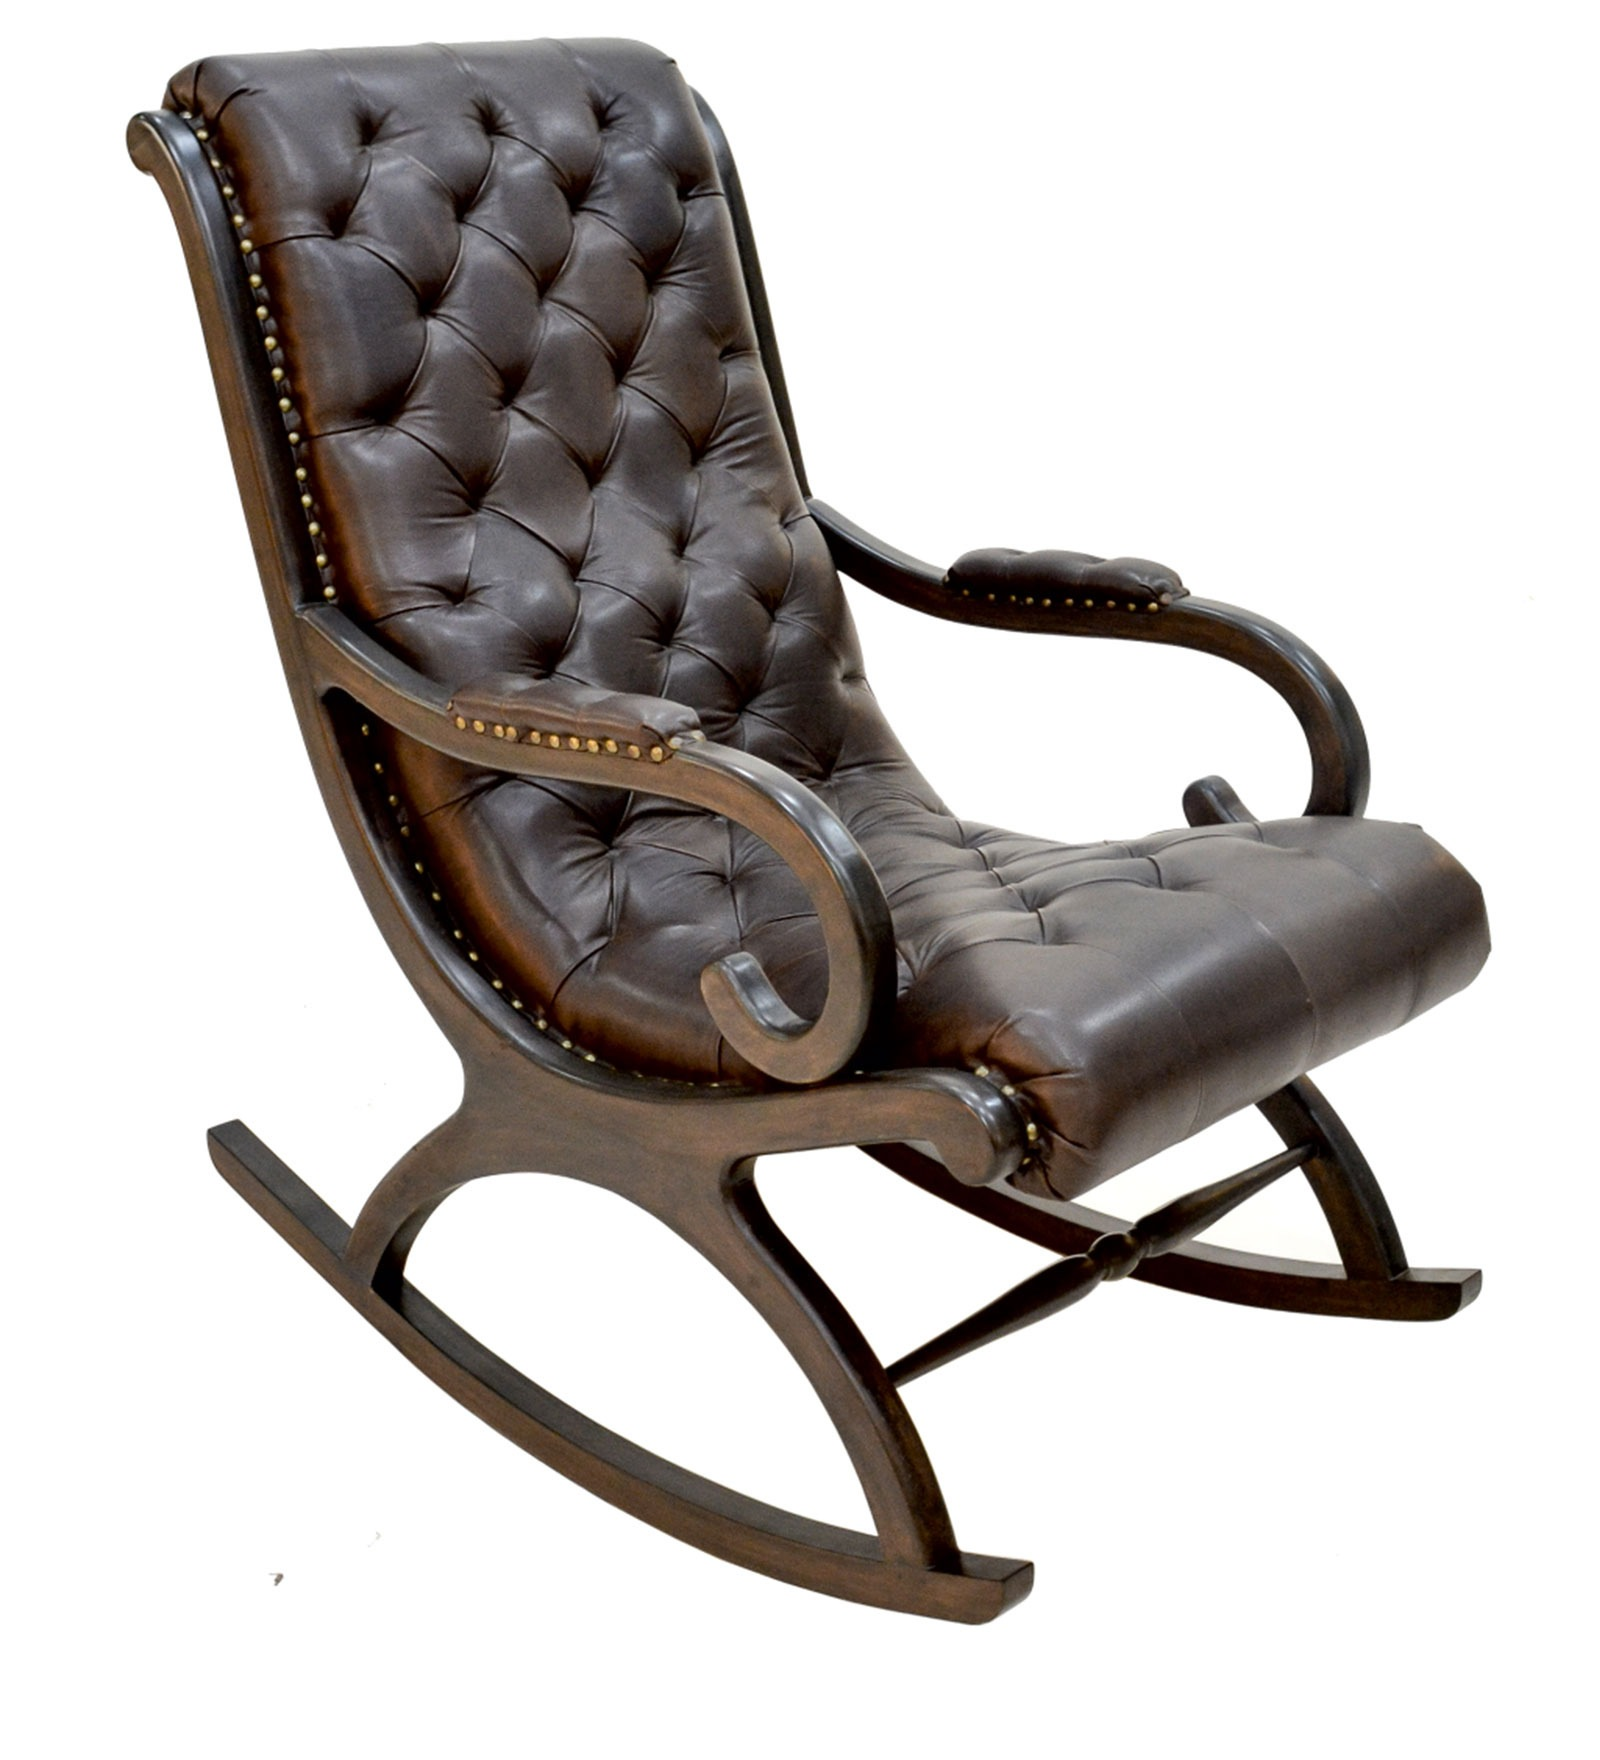Rapheal Rocking Chair in Dark Brown Pure Italian Leather by INDOORS: (90, 38, 1526, 1660)
